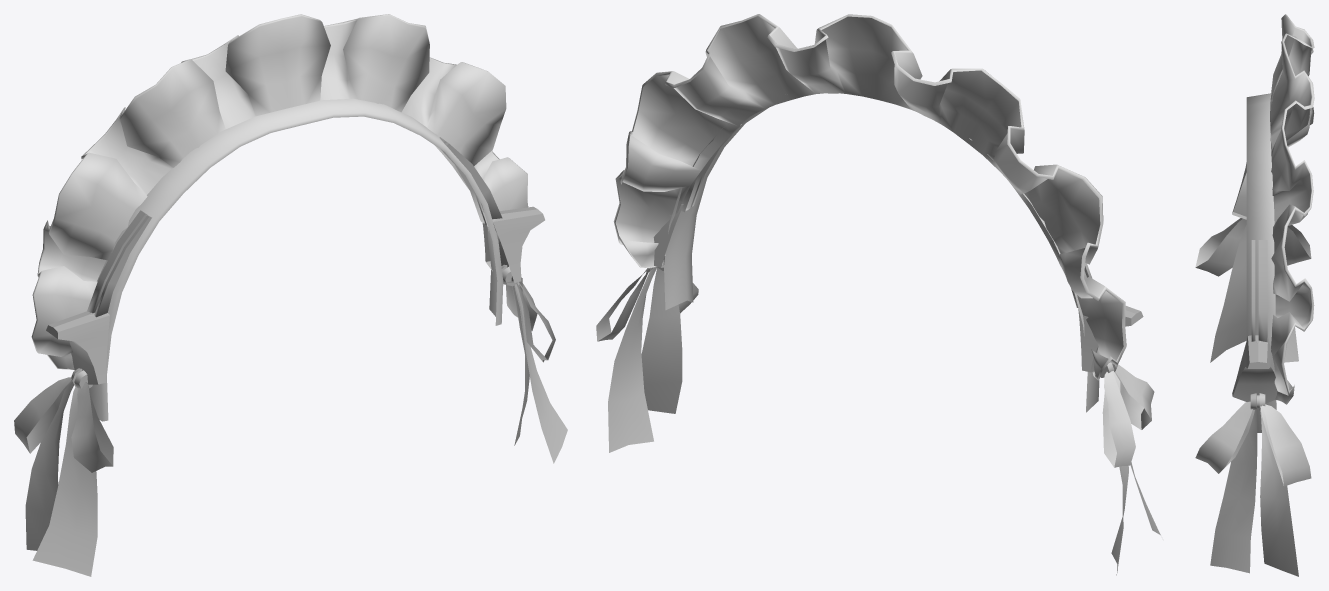
Rendered from P06_HeadWear_B.fbx.
The picture shows the model from 3 angles, left to right: view 1: azimuth 30°, elevation 25°; view 2: azimuth 150°, elevation 25°; view 3: azimuth 270°, elevation 25°; orthographic projection. The views are drawn at different scales.
Visible parts, largest first — view 1: HeadWear_B.001; view 2: HeadWear_B.001; view 3: HeadWear_B.001.
Part boxes in pixels (box(x1,y1,x2,y2)): HeadWear_B.001: box(14, 14, 567, 576); HeadWear_B.001: box(596, 14, 1160, 575); HeadWear_B.001: box(1195, 14, 1314, 576).
Size of the model in its own units: 0.24 by 0.0516 by 0.2047.
